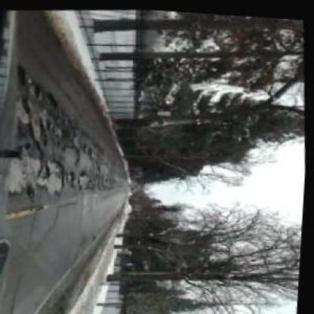Hueco: (14, 65, 32, 87), (44, 91, 62, 108), (41, 122, 52, 146), (68, 170, 80, 187), (8, 148, 24, 160), (42, 165, 54, 178)
